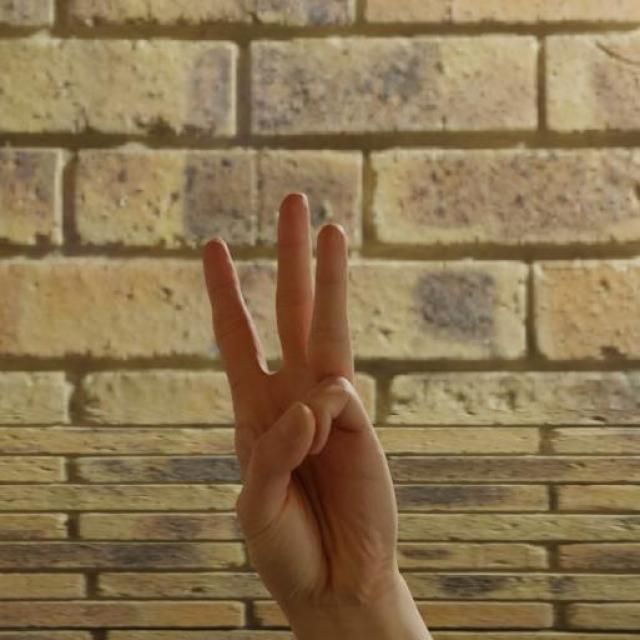W: (196, 190, 429, 630)
